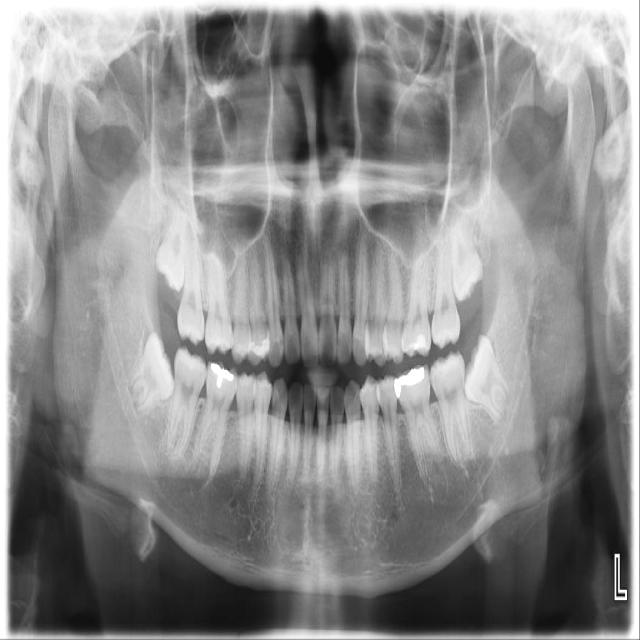Filling: (392, 364, 425, 397), (247, 323, 270, 367), (210, 360, 234, 391), (403, 330, 430, 355)
impacted tooth: (464, 334, 517, 422), (129, 331, 174, 417), (447, 204, 483, 301), (158, 192, 188, 291)
